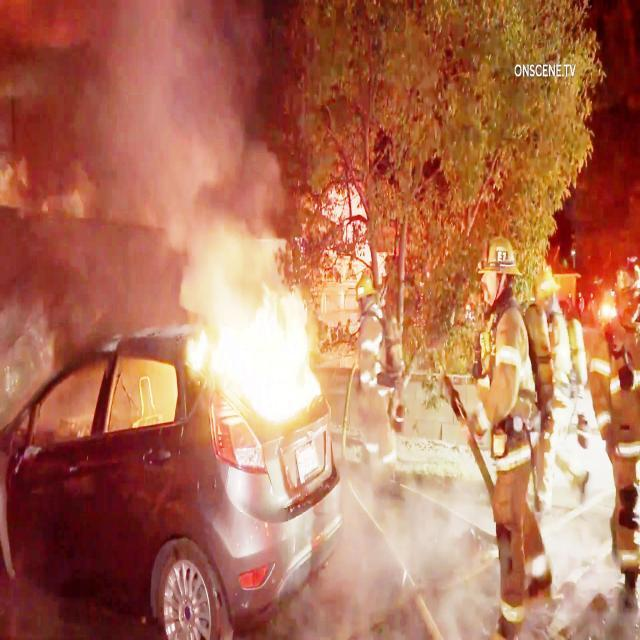Fire: (224, 212, 344, 418)
Smoke: (1, 0, 297, 235)
